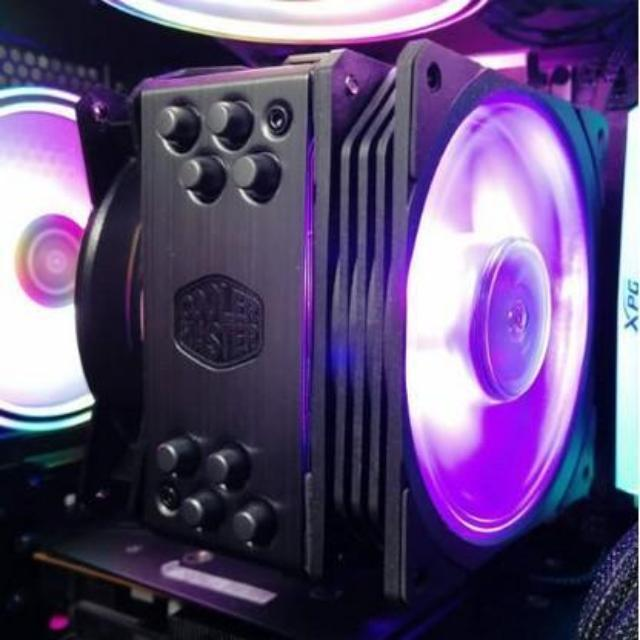CPU_Fan: (115, 26, 602, 596)
